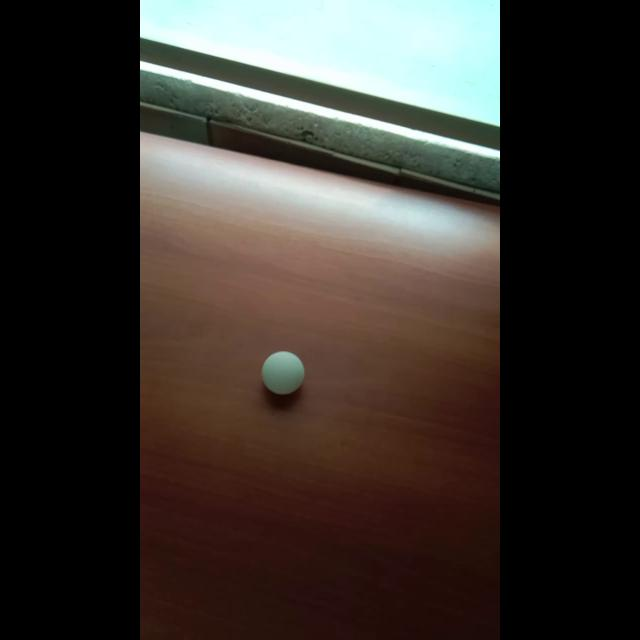white ball: (261, 350, 305, 396)
